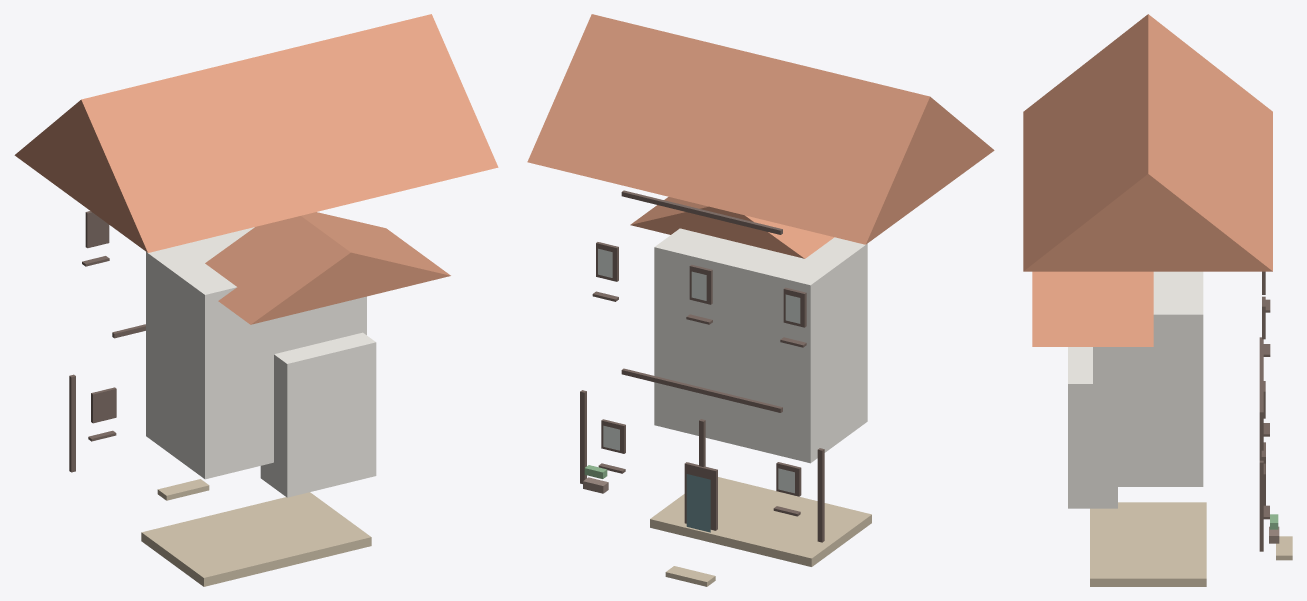
The model's file is ravnbro-depot.glb.
3 renders of one model, left to right at view 1: azimuth 30°, elevation 25°; view 2: azimuth 150°, elevation 25°; view 3: azimuth 270°, elevation 25°, orthographic. The views are drawn at different scales.
Visible parts, largest first — view 1: roof, body, wing_roof, wing, plinth, wf_-0.95, uwf_1_-1.02, up_-1.29, step; view 2: roof, body, plinth, wing_roof, door, beam_1, beam_2, door_frame, up_-1.29, up_1.29, step; view 3: roof, body, plinth, wing_roof, wing, up_1.29, step, beam_1.
Part boxes in pixels (box(x1,y1,x2,y2)): roof: box(14, 14, 498, 252); body: box(146, 227, 366, 479); wing_roof: box(205, 212, 450, 324); wing: box(260, 332, 376, 497); plinth: box(141, 492, 371, 586); wf_-0.95: box(91, 387, 116, 423); uwf_1_-1.02: box(85, 211, 109, 248); up_-1.29: box(69, 374, 75, 472); step: box(157, 479, 209, 500); roof: box(527, 14, 994, 244); body: box(654, 228, 867, 463); plinth: box(650, 477, 871, 566); wing_roof: box(630, 197, 834, 258); door: box(686, 474, 710, 532); beam_1: box(621, 368, 782, 412); beam_2: box(621, 190, 782, 234); door_frame: box(684, 462, 717, 530); up_-1.29: box(817, 448, 824, 542); up_1.29: box(580, 390, 586, 483); step: box(665, 566, 715, 586); roof: box(1023, 14, 1272, 271); body: box(1093, 271, 1203, 486); plinth: box(1090, 502, 1206, 586); wing_roof: box(1032, 271, 1153, 346); wing: box(1068, 347, 1117, 508); up_1.29: box(1259, 460, 1263, 551); step: box(1276, 536, 1292, 560); beam_1: box(1259, 337, 1263, 416).
Bounding box in the file's own units: 3.68 × 4.9 × 2.62.
